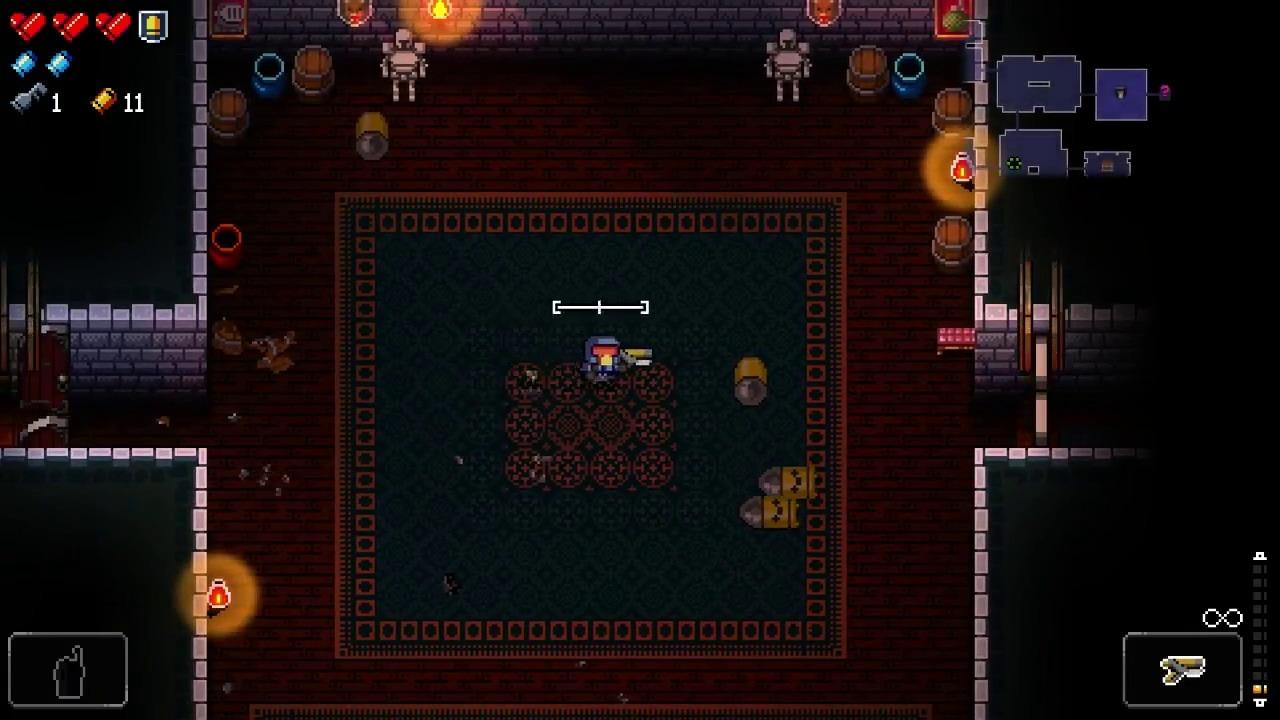dead_bullet_kin: (758, 465, 817, 499), (742, 496, 799, 530), (735, 358, 768, 407), (356, 112, 388, 161)
player: (583, 336, 621, 388)
unlocked_door: (20, 323, 69, 448), (1036, 337, 1049, 447)
